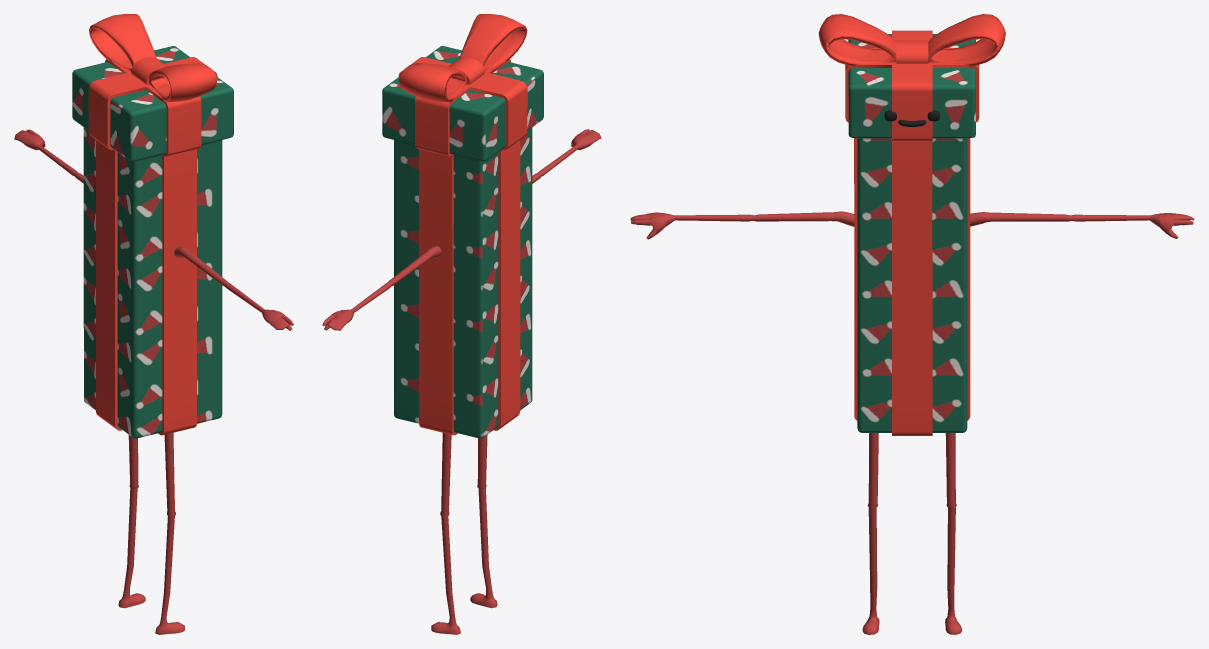
The model's file is avatars_tposing_christmas_present_character.glb.
3 renders of one model, left to right at view 1: azimuth 30°, elevation 25°; view 2: azimuth 150°, elevation 25°; view 3: azimuth 270°, elevation 25°, orthographic. The views are drawn at different scales.
Visible parts, largest first — view 1: mesh_char_132_1; view 2: mesh_char_132_1; view 3: mesh_char_132_1.
Part boxes in pixels (x1,y1,x2,y2): mesh_char_132_1: (14, 14, 293, 634); mesh_char_132_1: (322, 14, 601, 634); mesh_char_132_1: (630, 14, 1194, 634).
Size of the model in its own units: 0.9571 by 4.64 by 3.9.
Materials: 1 (1 with a texture image).
